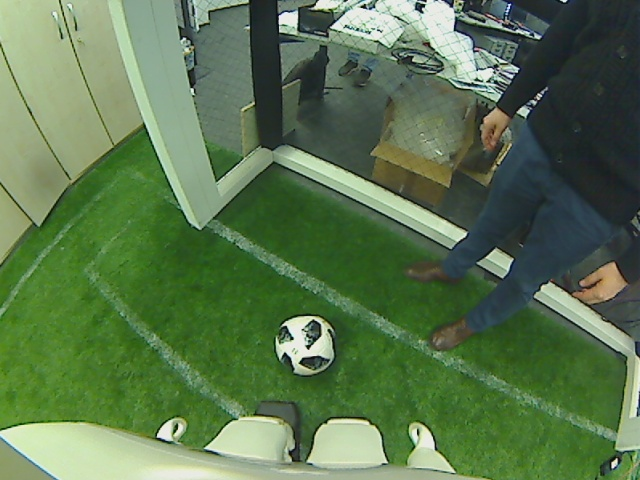ball: (274, 310, 336, 377)
